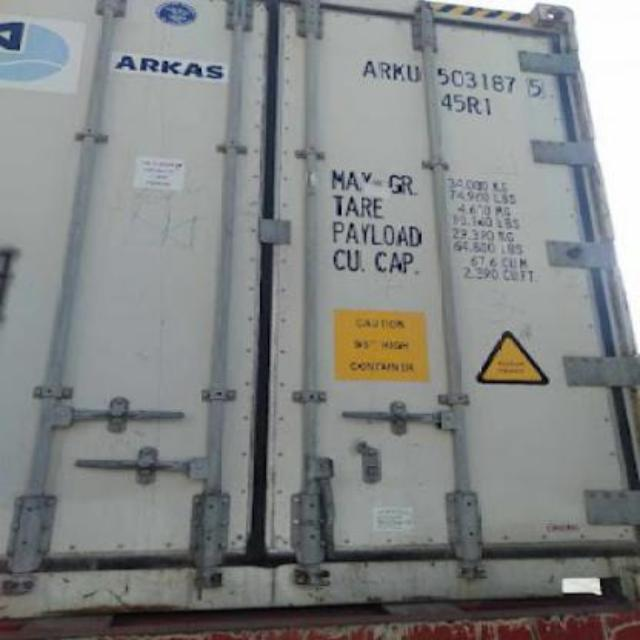0: (451, 62, 464, 90)
1: (478, 62, 492, 92)
3: (462, 62, 478, 90)
5: (526, 68, 544, 98), (434, 60, 450, 90)
7: (504, 68, 518, 98)
8: (488, 66, 504, 94)
A: (360, 50, 376, 80)
K: (390, 58, 406, 86)
R: (376, 53, 392, 83)
U: (406, 55, 422, 87)
